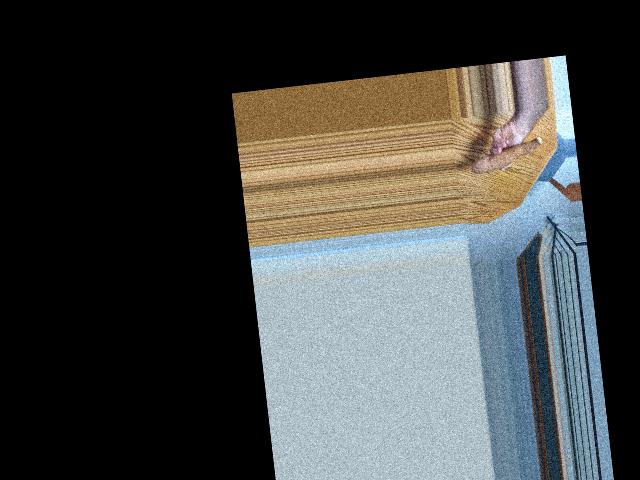sweet_potato: (471, 130, 544, 177)
